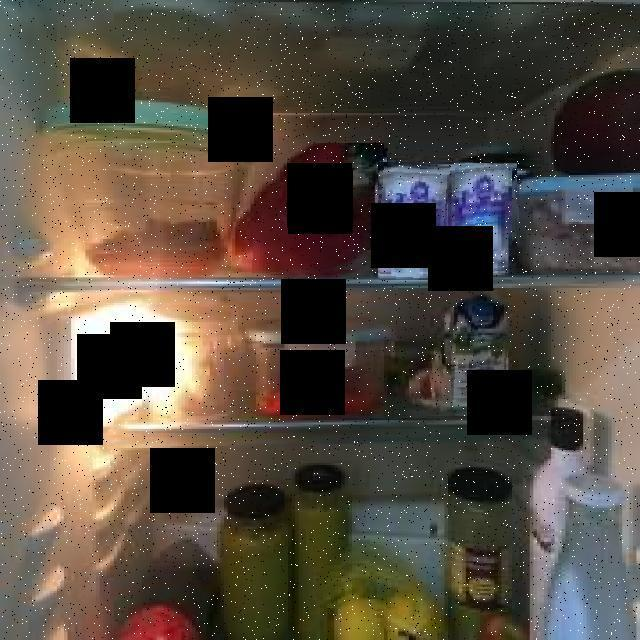bell_pepper: (231, 143, 388, 277)
garlic: (409, 347, 451, 415)
heavy_cream: (446, 293, 510, 411)
lemon: (329, 599, 386, 640)
mango: (554, 67, 640, 171)
yogurt: (378, 162, 450, 280), (450, 163, 517, 276)
